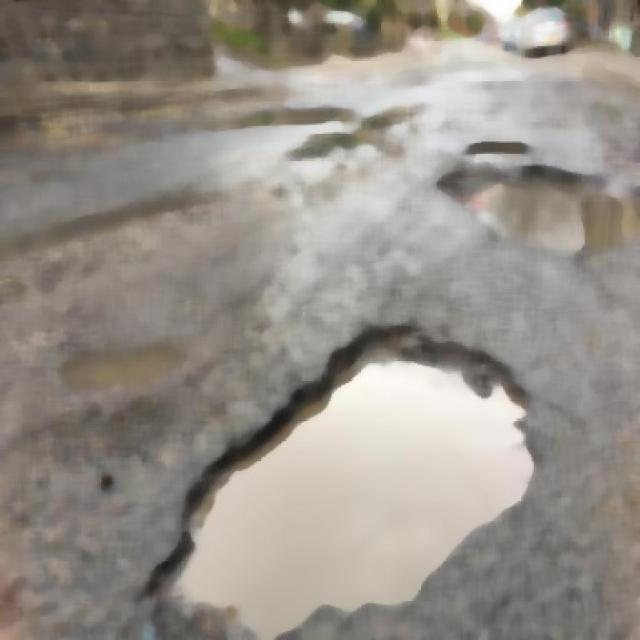Pothole: (141, 268, 534, 640), (438, 144, 639, 288)
